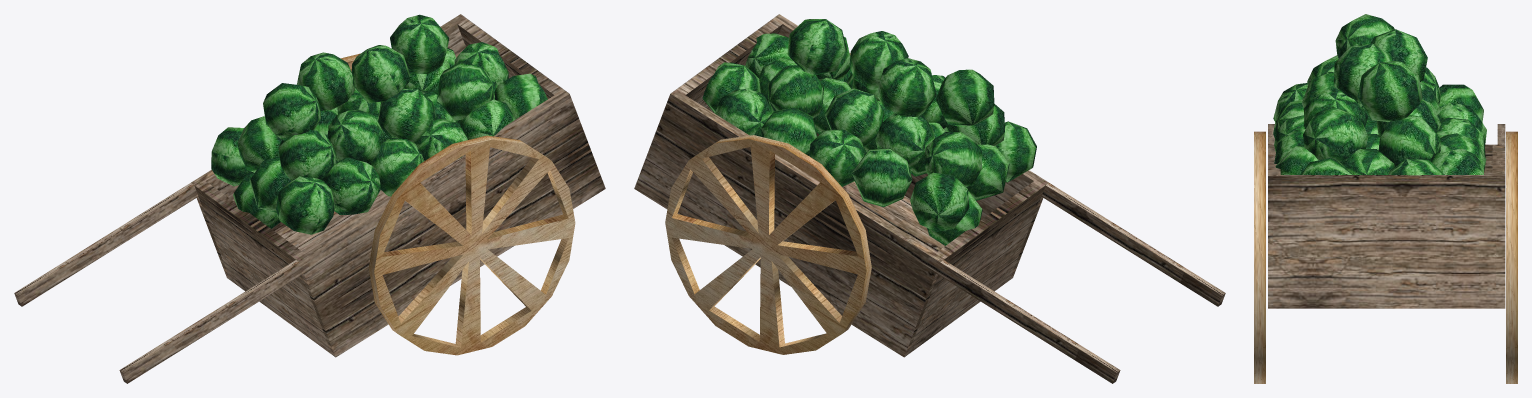
File: carreta.FBX
3 renders of one model, left to right at view 1: azimuth 30°, elevation 25°; view 2: azimuth 150°, elevation 25°; view 3: azimuth 270°, elevation 25°, orthographic. The views are drawn at different scales.
Parts seen in each view (by area): view 1: carreta, melancia; view 2: carreta, melancia; view 3: carreta, melancia.
Part boxes in pixels (left/top/right/bottom): carreta: left=14, top=14, right=605, bottom=383; melancia: left=211, top=14, right=547, bottom=234; carreta: left=634, top=14, right=1225, bottom=383; melancia: left=702, top=19, right=1036, bottom=245; carreta: left=1254, top=124, right=1517, bottom=383; melancia: left=1273, top=14, right=1486, bottom=175.
Size of the model in its own units: 11.39 by 4.94 by 6.42.
3 materials, 3 textured.
